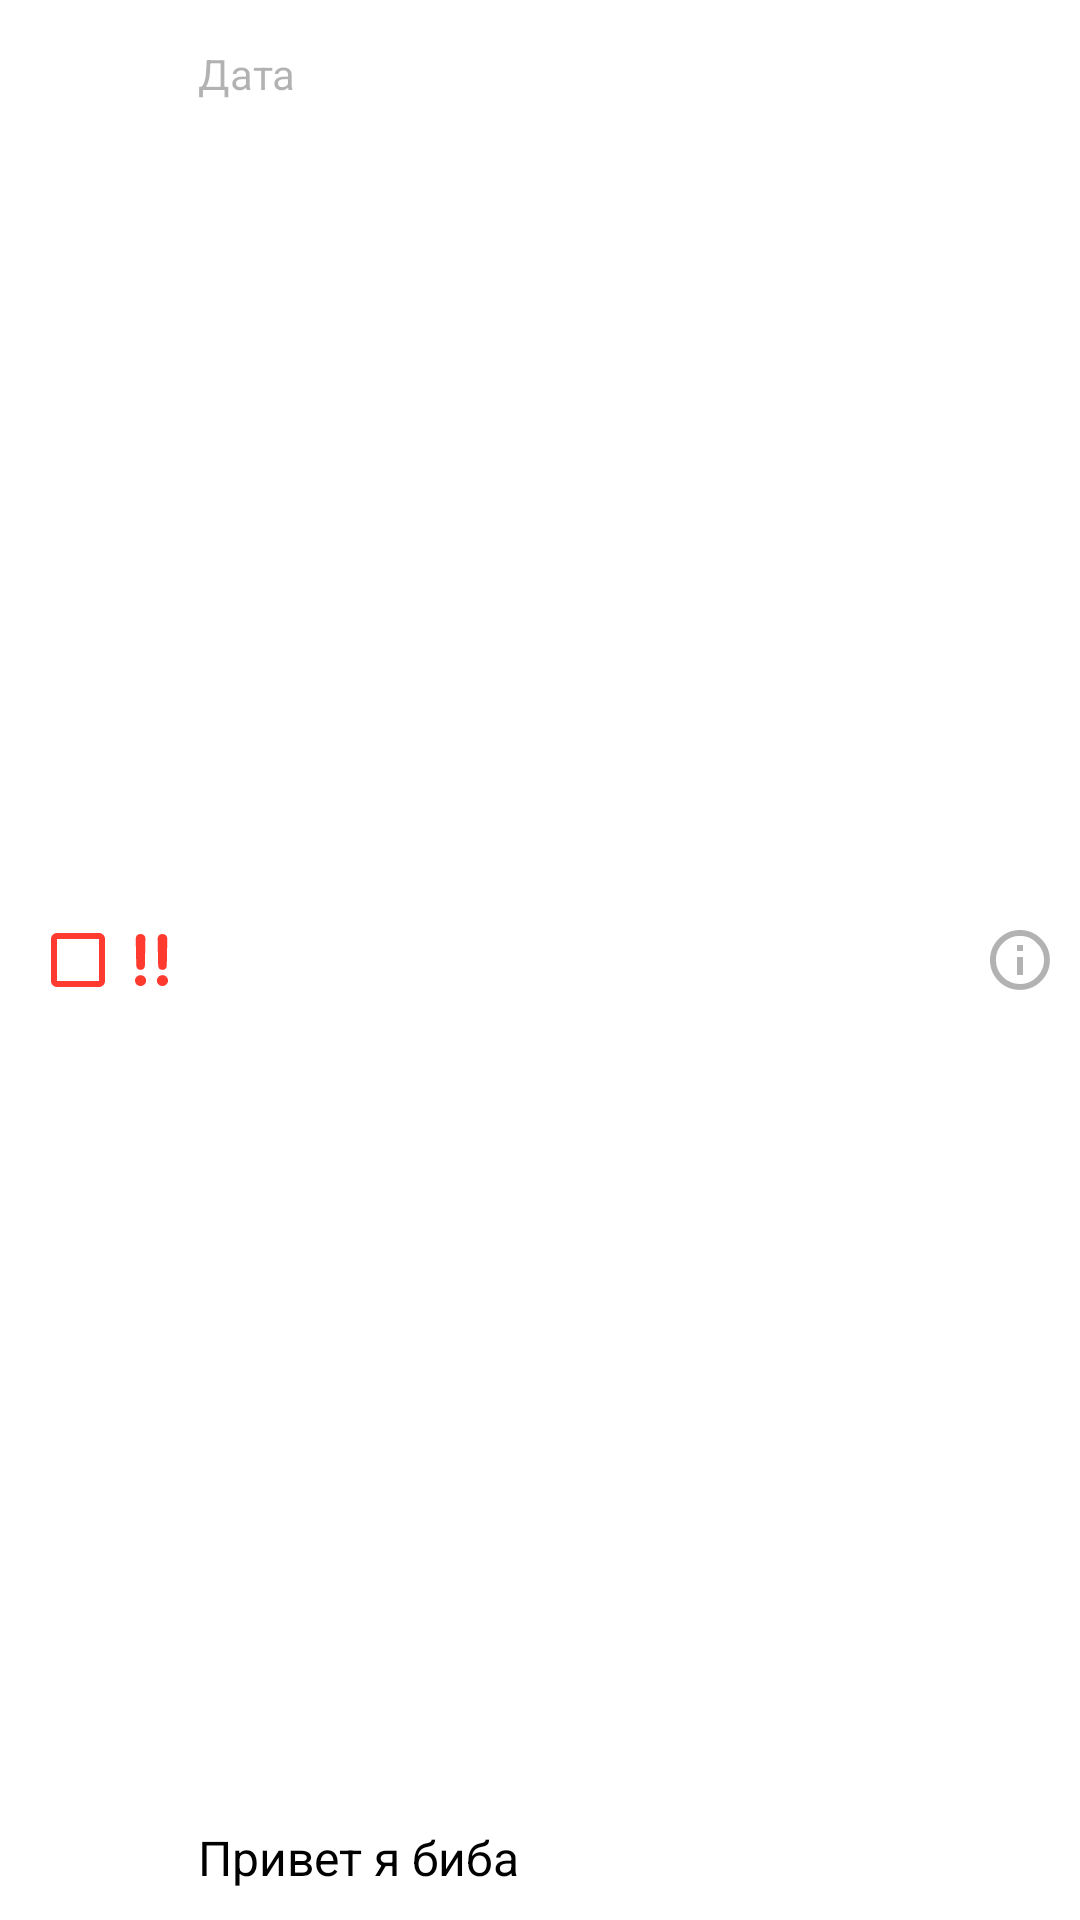

Icon click points for this 1080 x 1920 phone screenshot, format [x,y]:
warning: [151,960]
